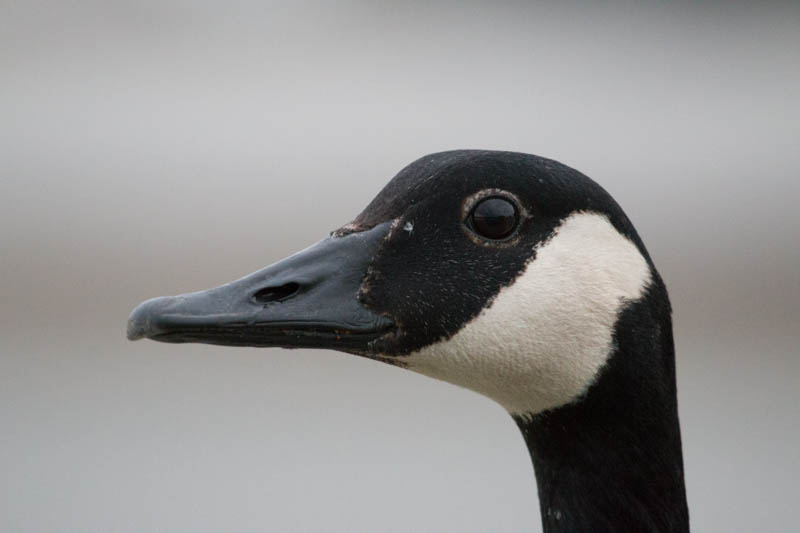goose-head: (127, 148, 678, 431)
